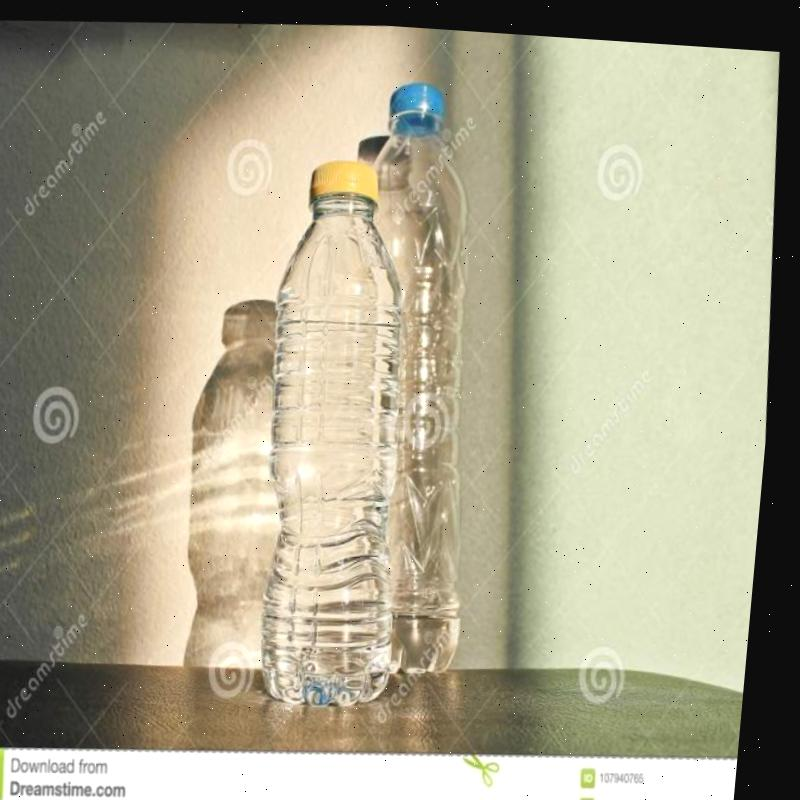botella: (245, 149, 443, 708), (331, 75, 510, 672)
